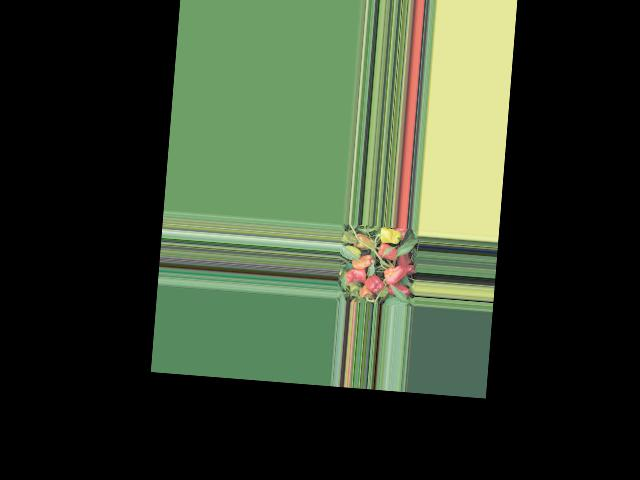bell_pepper: (358, 285, 370, 299)
